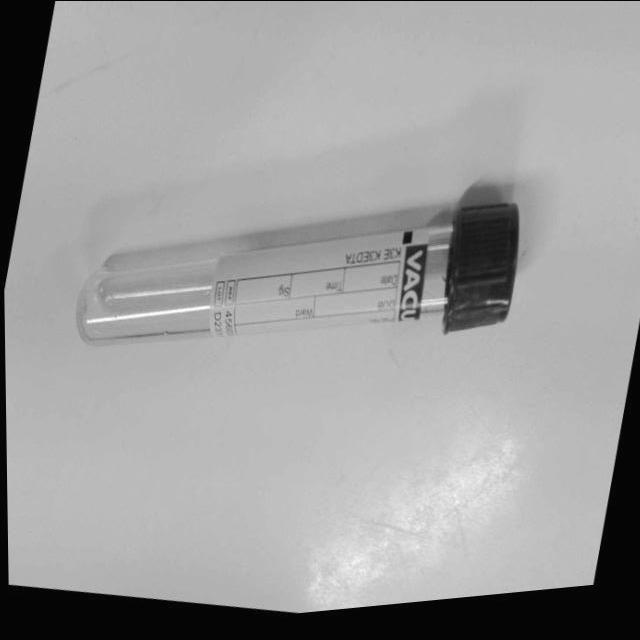Pathological: (3, 1, 638, 614)
Sharps: (74, 200, 518, 345)
